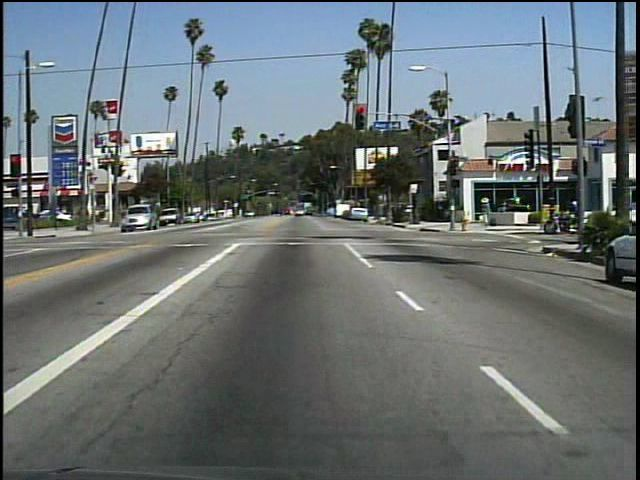person: (560, 194, 585, 236), (477, 192, 493, 227)
